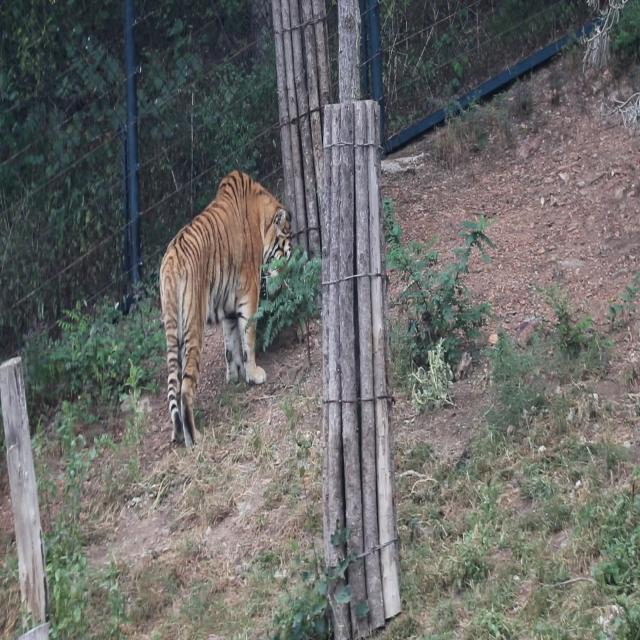Tiger: (145, 140, 303, 440)
